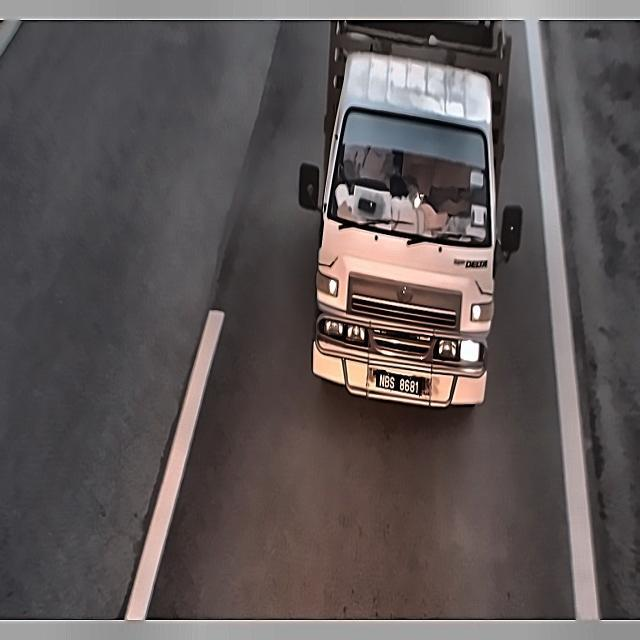car: (372, 365, 432, 403)
